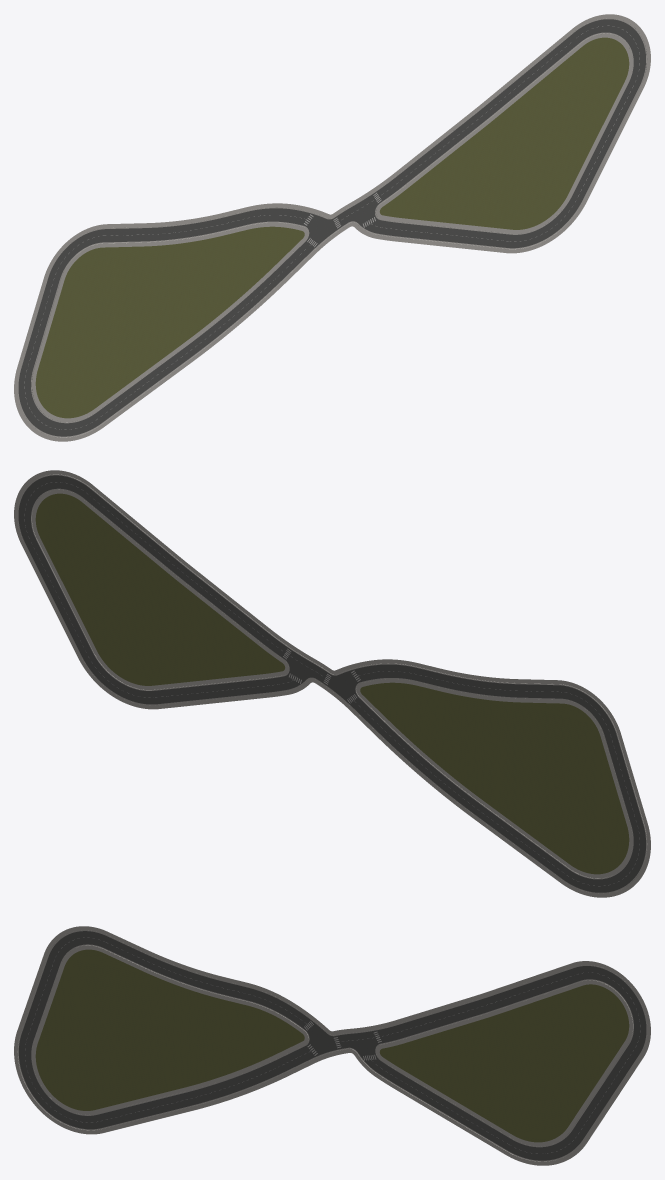
File: loop_geo_RHD.obj
The picture shows the model from 3 angles, top to bottom: view 1: azimuth 30°, elevation 25°; view 2: azimuth 150°, elevation 25°; view 3: azimuth 330°, elevation 25°; orthographic projection.
Parts seen in each view (by area): view 1: mesh; view 2: mesh; view 3: mesh.
Boxes of the visible parts, x1,y1,x2,y2 form: mesh: (14,14,650,441); mesh: (14,470,650,897); mesh: (14,926,650,1165).
Size of the model in its own units: 359 by 160 by 0.1524.
Materials: 4 (4 with a texture image).
